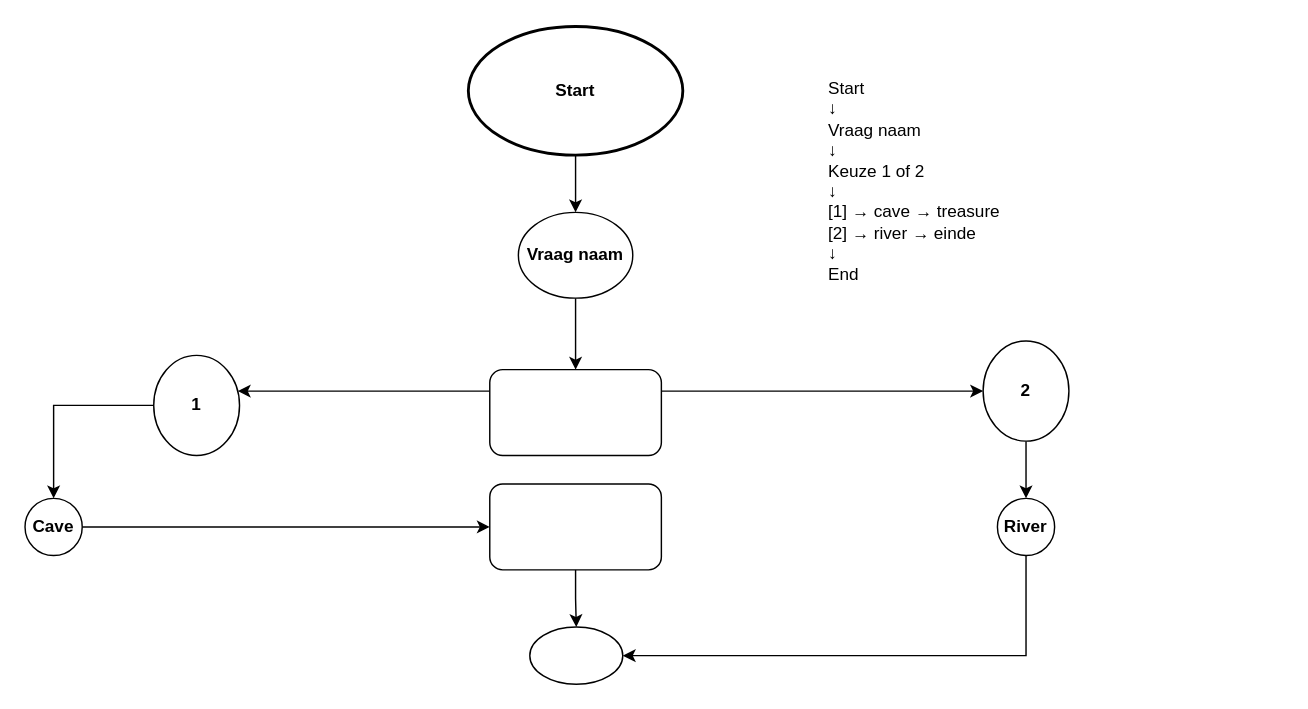
The diagram is 1308 pixels wide and 709 high, and some of its shapes have lost their labels. The shapes that lost their labels are listed below. From the top down, each one's centre as x and y in pixels, then its label:
the point at 574,411: Keuze 1 of 2
the point at 574,526: Treasure
the point at 575,655: End
